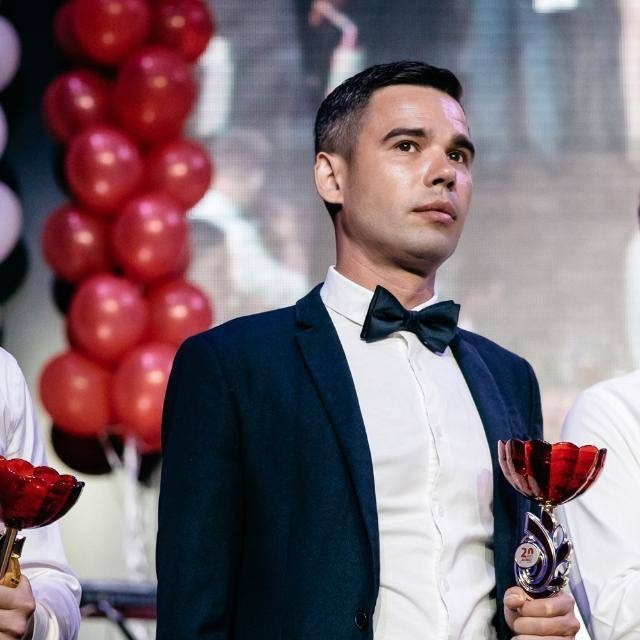bow: (353, 283, 468, 362)
